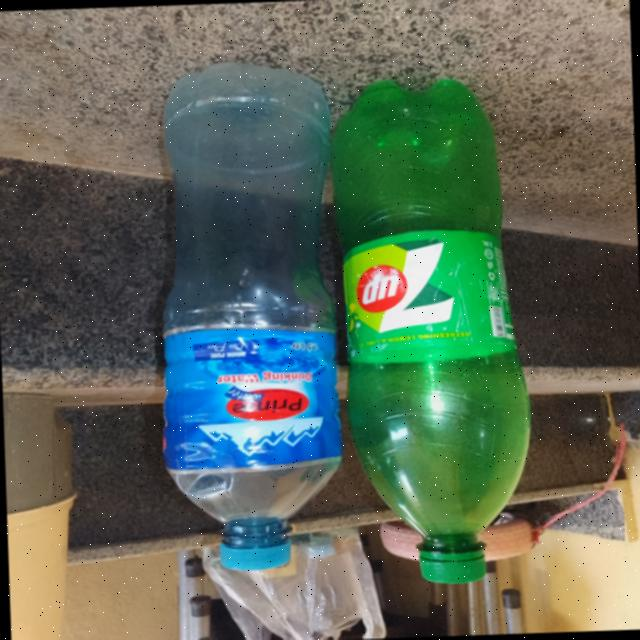bottle: (329, 62, 539, 604), (140, 52, 348, 580)
cap: (402, 533, 502, 591), (207, 525, 304, 575)
label: (158, 312, 332, 474), (353, 220, 514, 362)
